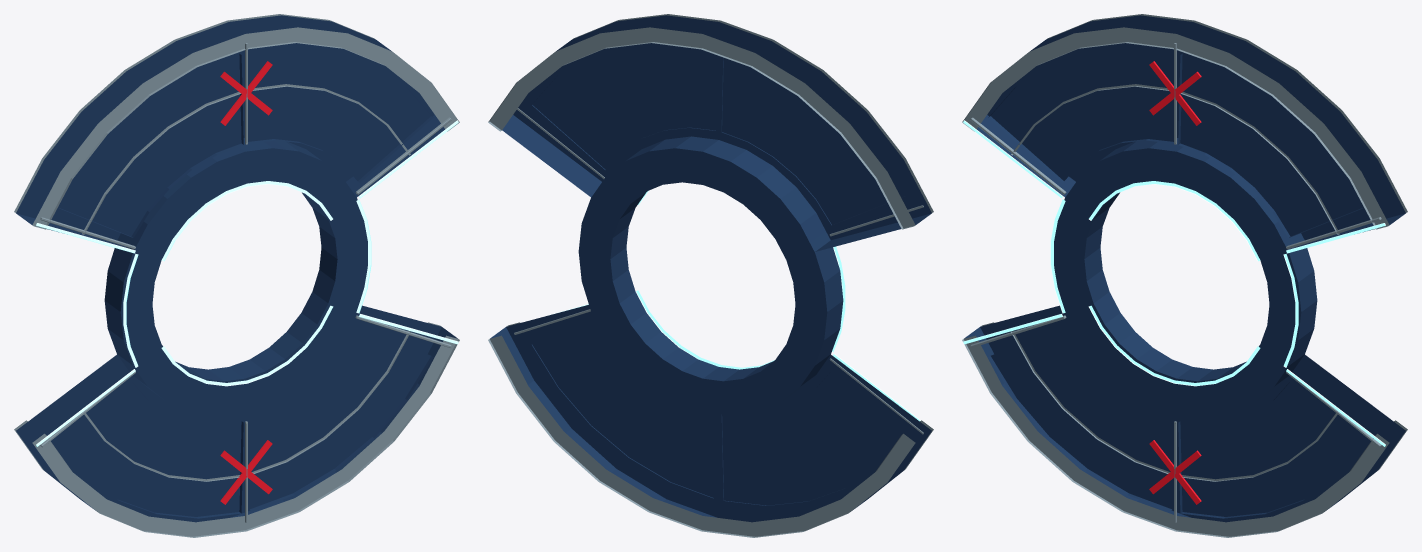
Rendered from foundry-panel-fun9-low.glb.
3 renders of one model, left to right at view 1: azimuth 30°, elevation 25°; view 2: azimuth 150°, elevation 25°; view 3: azimuth 330°, elevation 25°, orthographic.
Visible parts, largest first — view 1: RENDER_PANEL_SHELL, RENDER_PANEL_FRAME, RENDER_PANEL_SIGNAL, RENDER_PANEL_HAZARD; view 2: RENDER_PANEL_SHELL, RENDER_PANEL_FRAME, RENDER_PANEL_SIGNAL; view 3: RENDER_PANEL_SHELL, RENDER_PANEL_FRAME, RENDER_PANEL_SIGNAL, RENDER_PANEL_HAZARD.
Part boxes in pixels (x1,y1,x2,y2): RENDER_PANEL_SHELL: [16, 15, 457, 522]; RENDER_PANEL_FRAME: [14, 14, 459, 537]; RENDER_PANEL_SIGNAL: [36, 120, 458, 446]; RENDER_PANEL_HAZARD: [220, 61, 272, 504]; RENDER_PANEL_SHELL: [490, 15, 931, 522]; RENDER_PANEL_FRAME: [488, 14, 933, 537]; RENDER_PANEL_SIGNAL: [549, 191, 920, 421]; RENDER_PANEL_SHELL: [964, 15, 1405, 522]; RENDER_PANEL_FRAME: [962, 14, 1407, 537]; RENDER_PANEL_SIGNAL: [963, 120, 1385, 446]; RENDER_PANEL_HAZARD: [1149, 61, 1201, 504].
Size of what is drawn, in the model's own units: 36.84 by 41 by 3.09.
